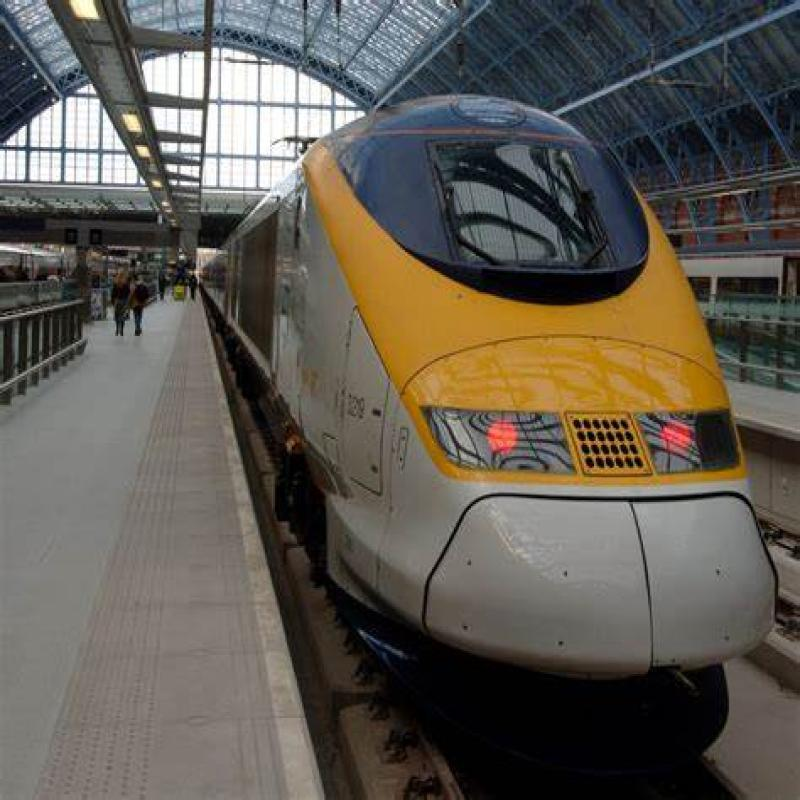train: (217, 116, 710, 706)
